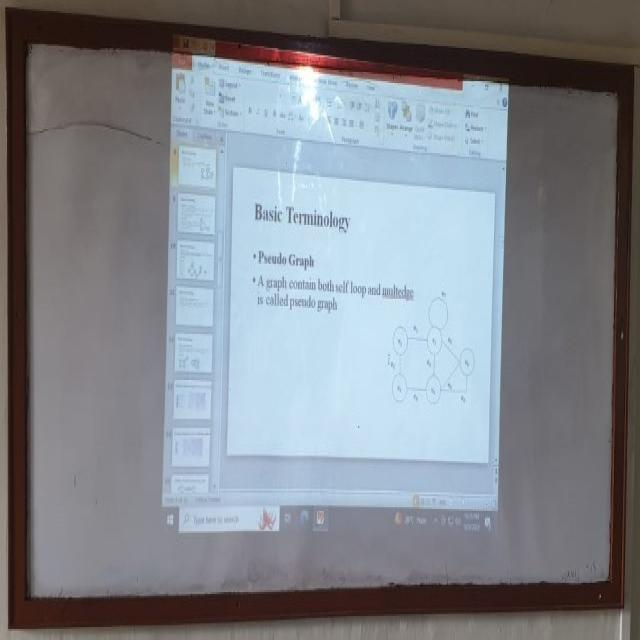Slide: (160, 37, 508, 546)
White-board: (22, 24, 625, 620)
